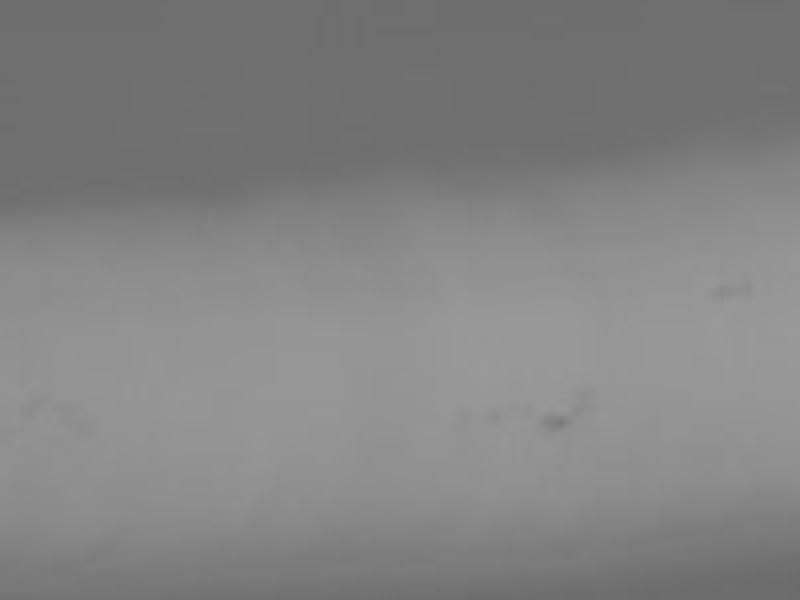defect: (567, 391, 595, 416), (542, 409, 571, 433), (715, 279, 743, 302), (480, 403, 502, 427)
